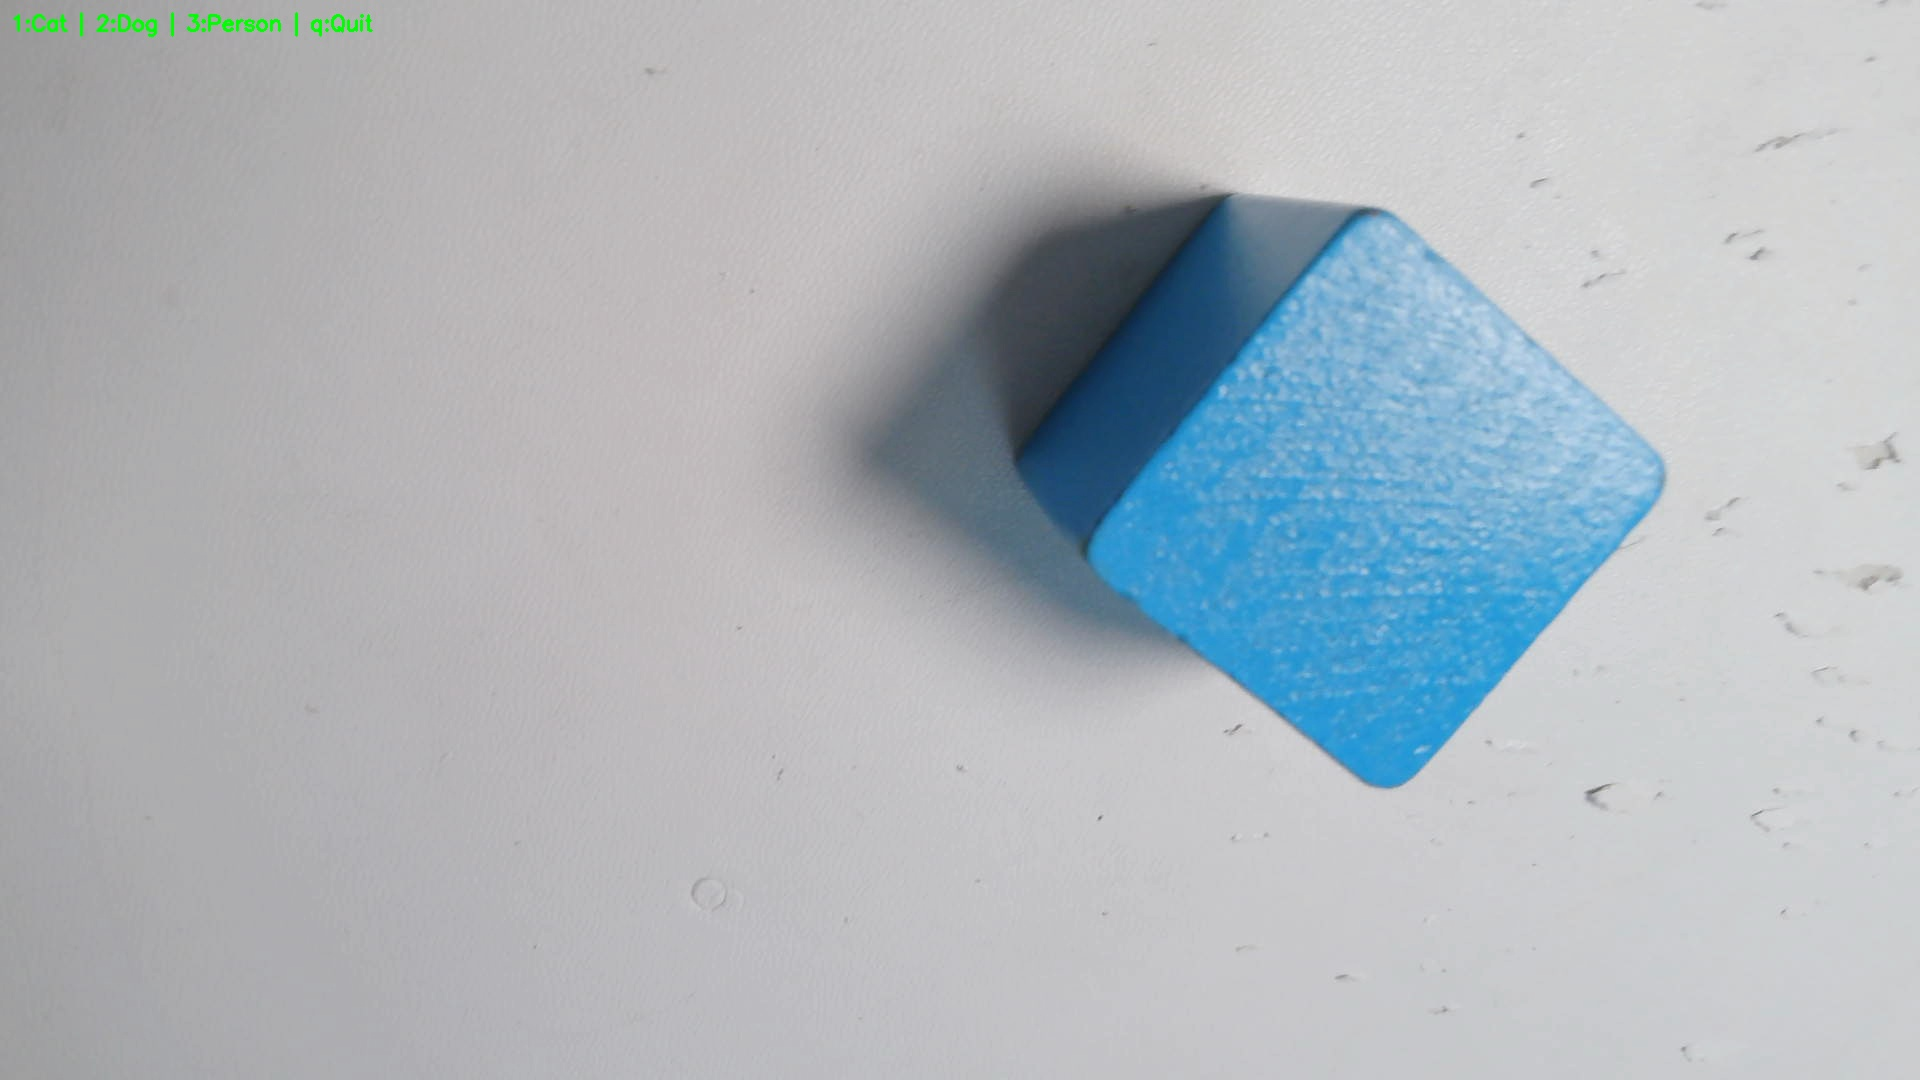blue: (1017, 198, 1669, 781)
